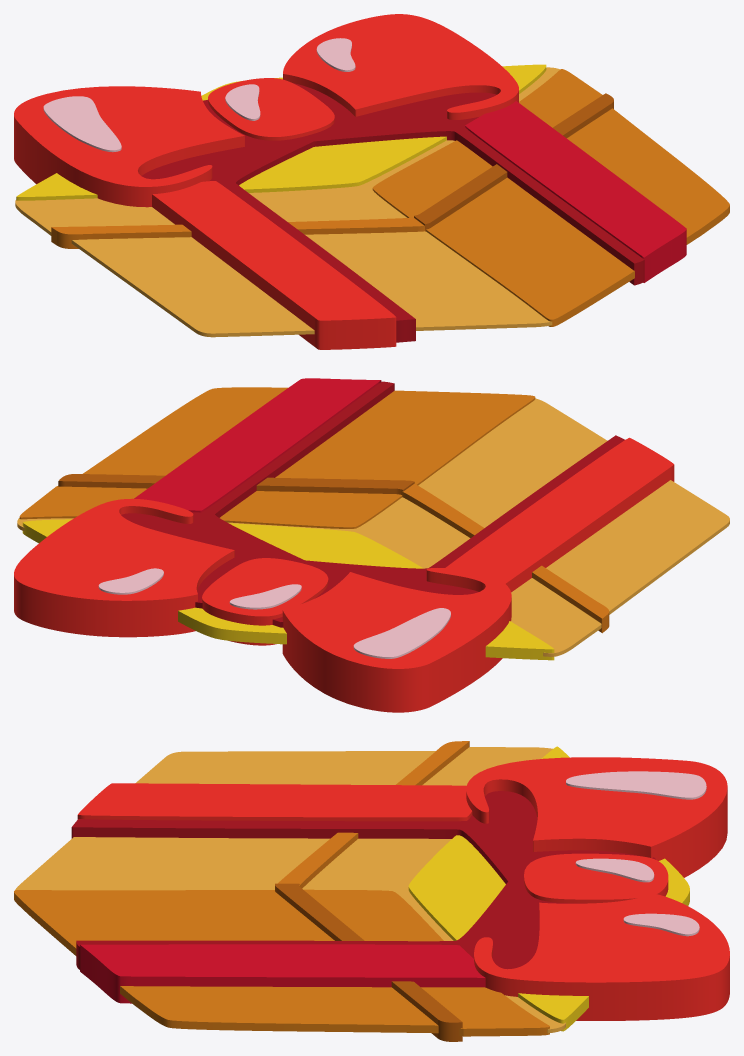
The model's file is emoji_u1f381.glb.
3 views of the same model, one above another, from view 1: azimuth 30°, elevation 25°; view 2: azimuth 150°, elevation 25°; view 3: azimuth 270°, elevation 25° (orthographic). The views are drawn at different scales.
Visible parts, largest first — view 1: emoji_u1f381; view 2: emoji_u1f381; view 3: emoji_u1f381.
Part boxes in pixels (x1,y1,x2,y2): emoji_u1f381: (14, 14, 729, 349); emoji_u1f381: (14, 378, 729, 712); emoji_u1f381: (14, 741, 729, 1041).
Size of the model in its own units: 0.0316 by 0.0026 by 0.0336.
